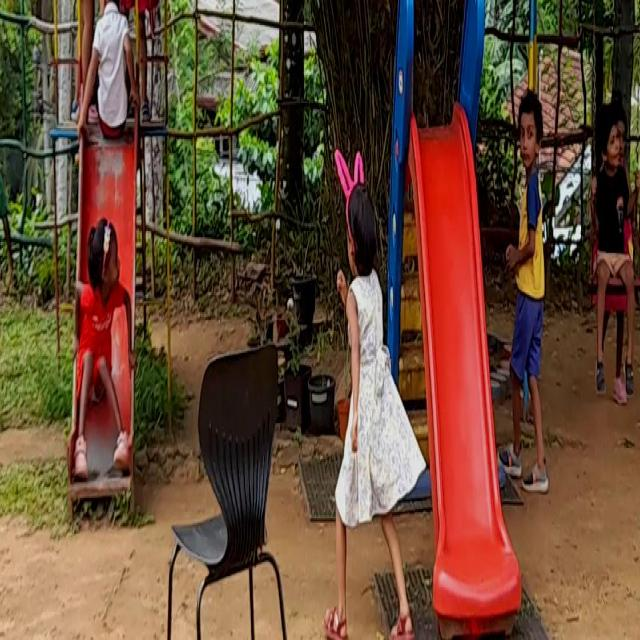child: (315, 128, 416, 640), (501, 80, 556, 494), (71, 206, 136, 514), (583, 76, 640, 418), (93, 0, 133, 156), (0, 73, 14, 427)
